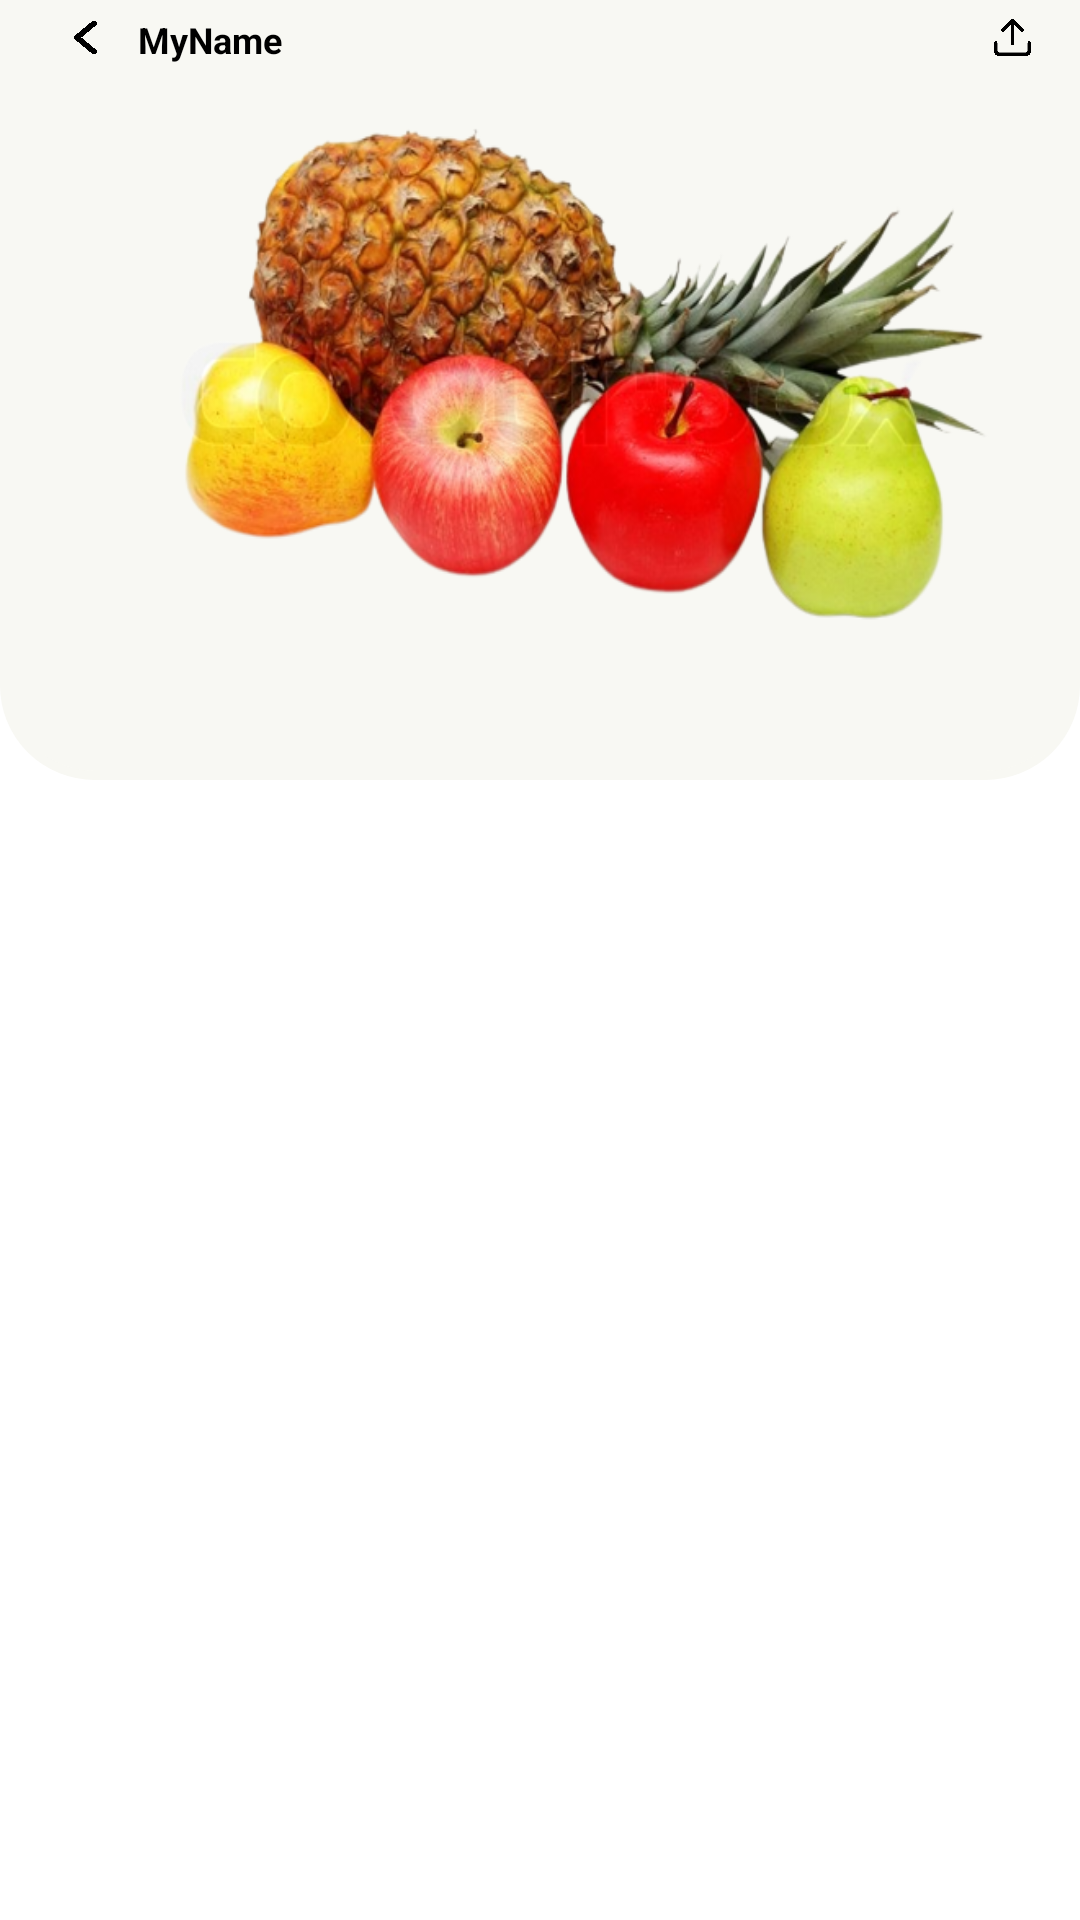

Icons on this 1080px x 1920px Android screen, each with its box as (x1, y1, x2, y2):
arrow back: (74, 21, 97, 54)
upload: (994, 19, 1031, 56)
